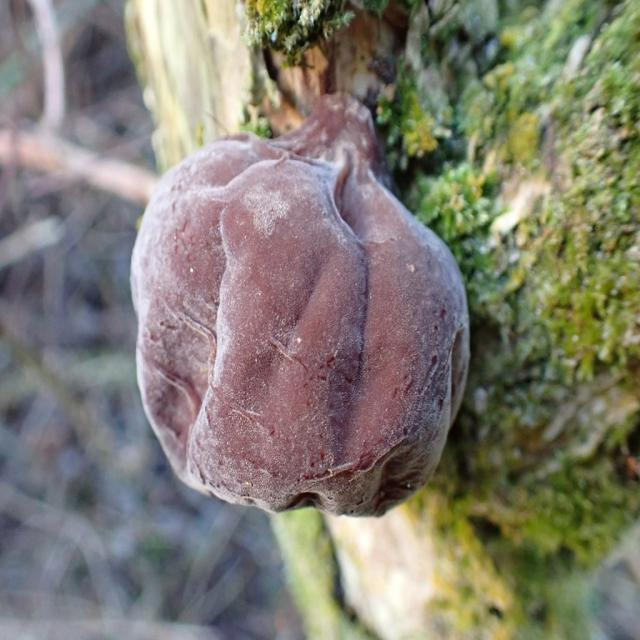Matang: (126, 82, 487, 524)
